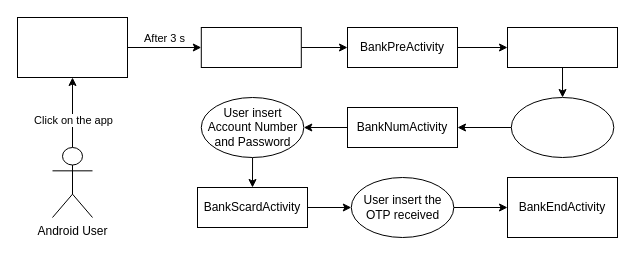
Some shapes in this 635 by 256 pixel diagram are drawn without their labels. The shapes that lost their labels are listed below. From the top down, each one's centre as x and y in pixels, then its label:
At (72,47): "BankSplashActivity".
At (250,47): "BankSplashNext".
At (562,47): "BankActivity".
At (562,127): "User insert Resident Number and Bank ID".
